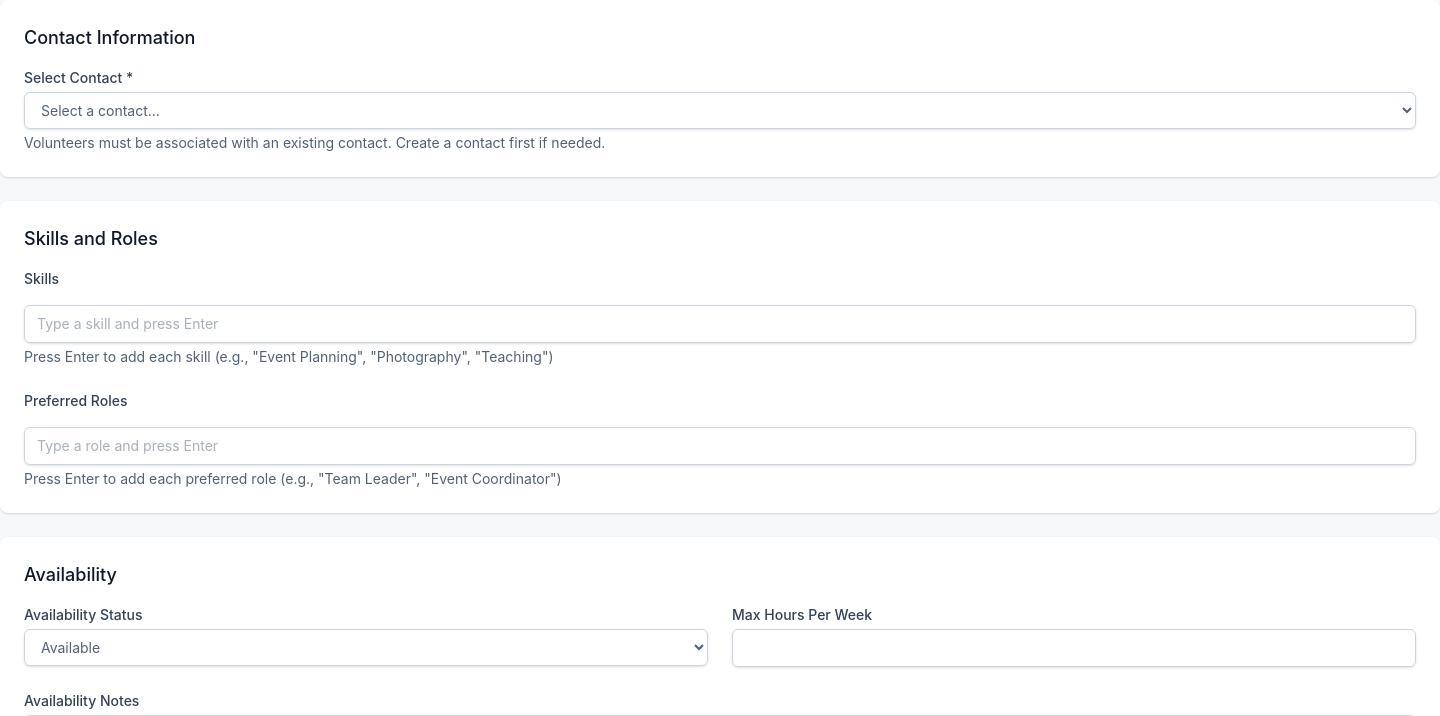
Test: VolunteerForm › Create Mode › allows removing skills
In the field labelled "Skills": (720, 324) [24,305,1416,343], type "Marketing"
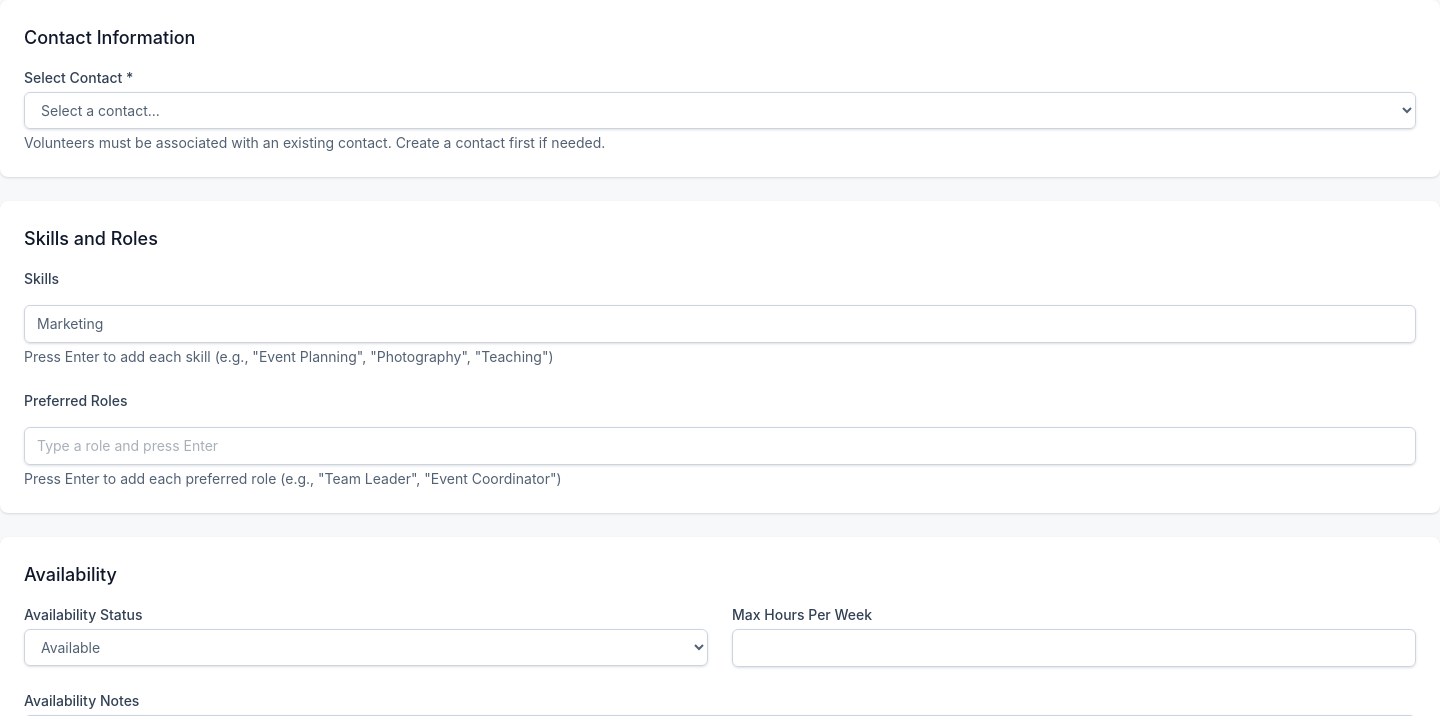
Press Enter in the field labelled "Skills", box [24,305,1416,343]
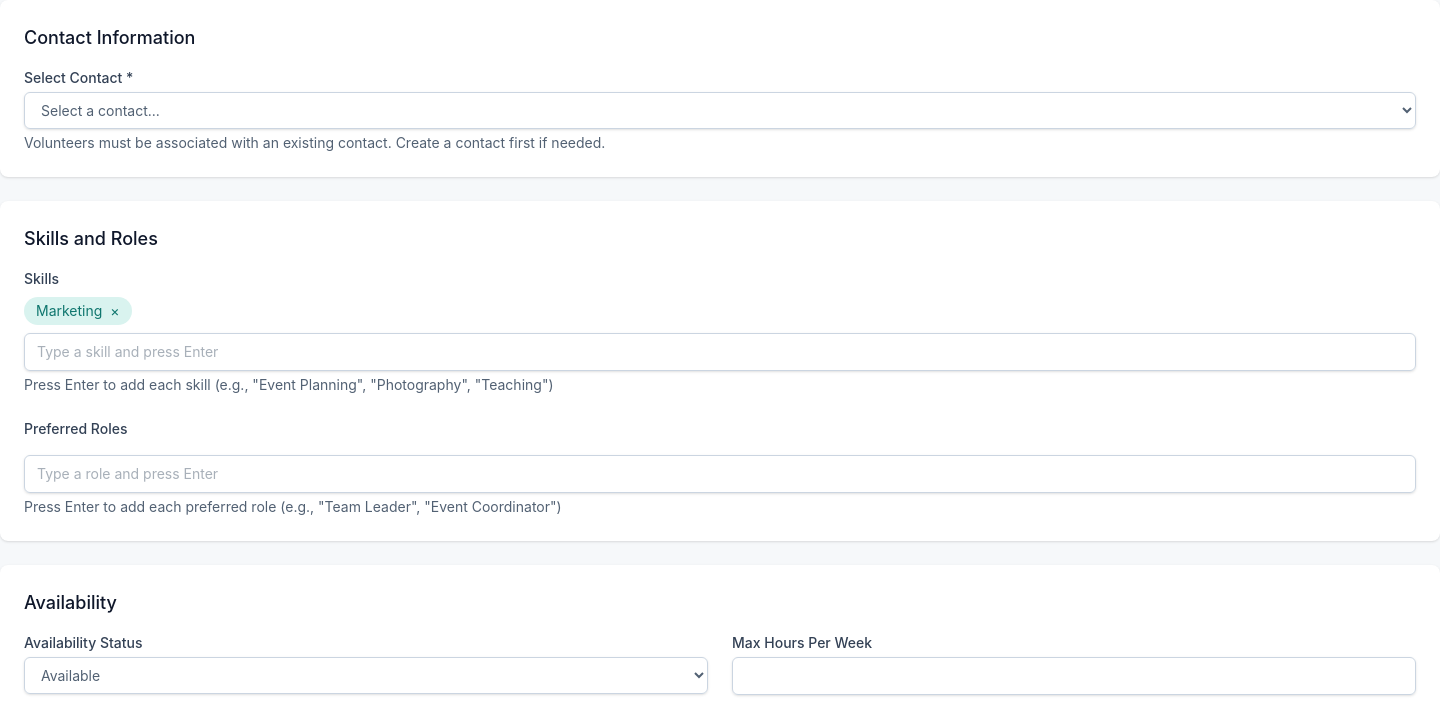
Check: the text "Marketing" is shown, box [36,302,102,319]
Click the button: (115, 311) [110,301,120,321]
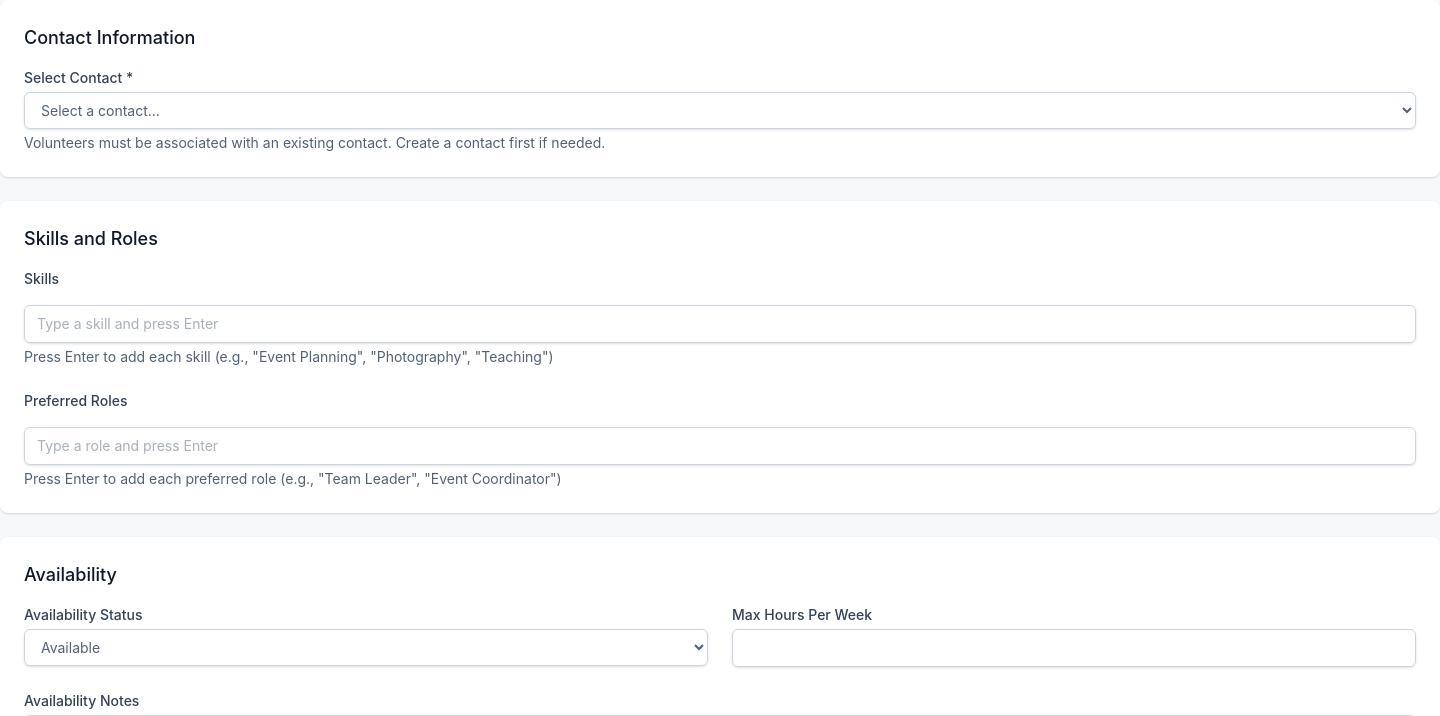
Check: the text "Marketing" is gone
